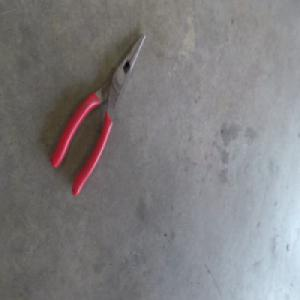Pliers: (61, 31, 155, 195)
